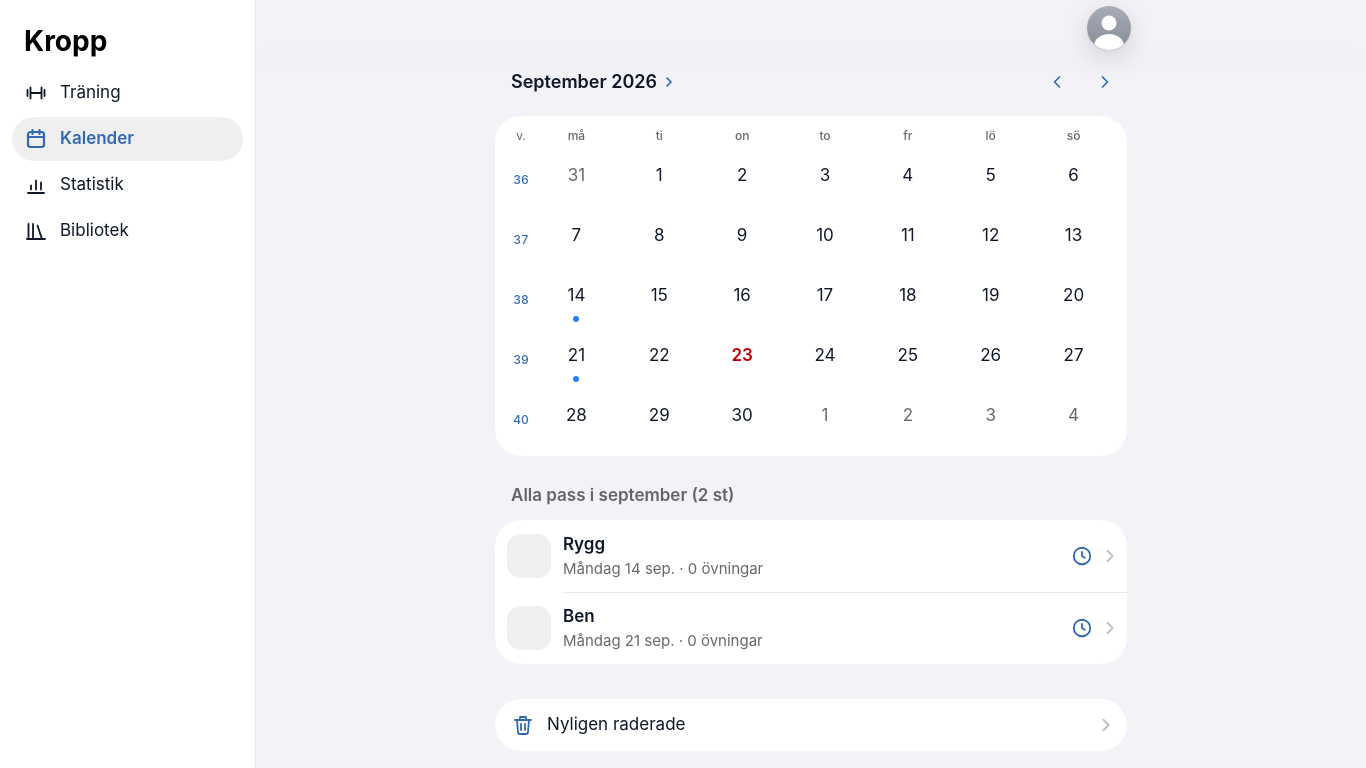
Test: shows the chosen day’s workouts, and the way back leads to that day
The width and height of the screenshot is (1366, 768).
Click the button "21". click: (576, 360)
box: [552, 332, 600, 388]
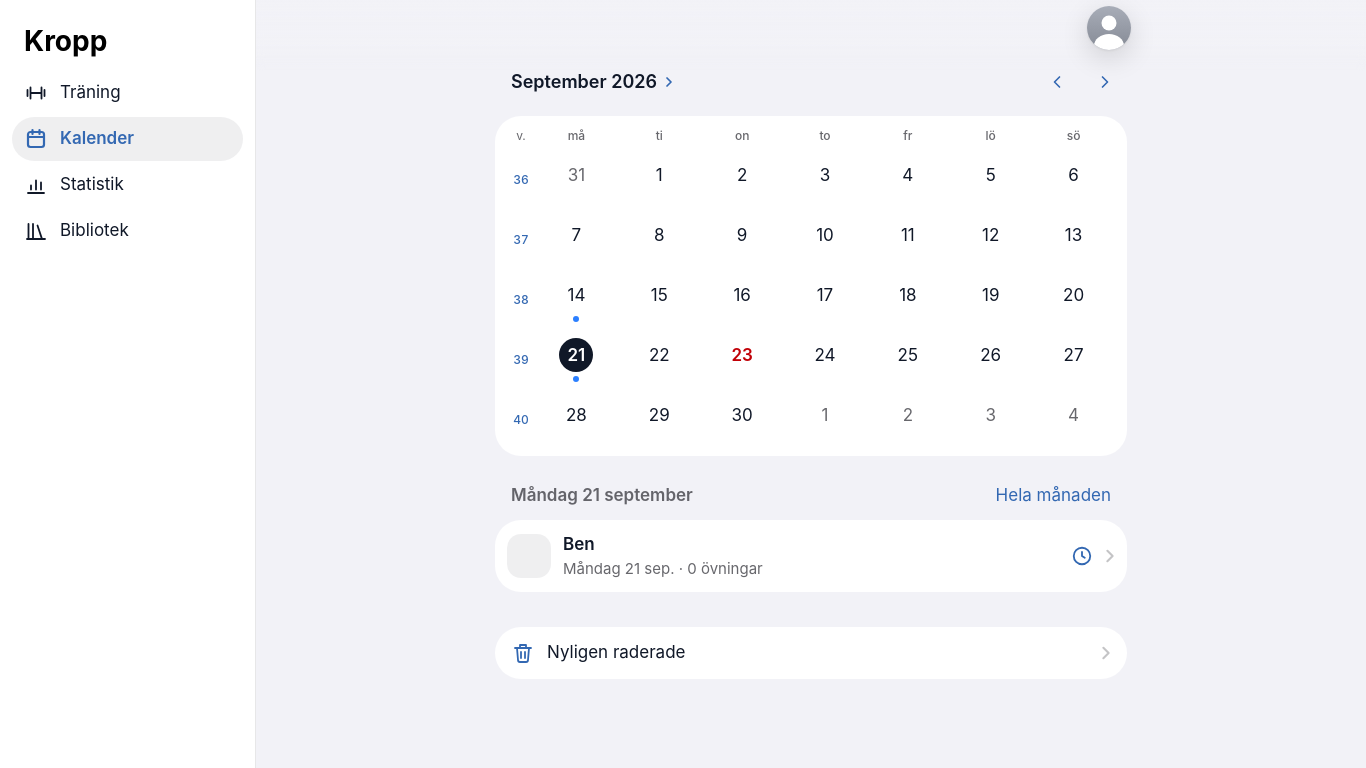
Expected: the heading with test id "shown-heading" reads "måndag 21 september", [511, 485, 693, 505]
Expected: the button with test id "whole-month" reads "Hela månaden"
Click the button with test id "whole-month". click: (1053, 496)
box: [988, 475, 1119, 517]
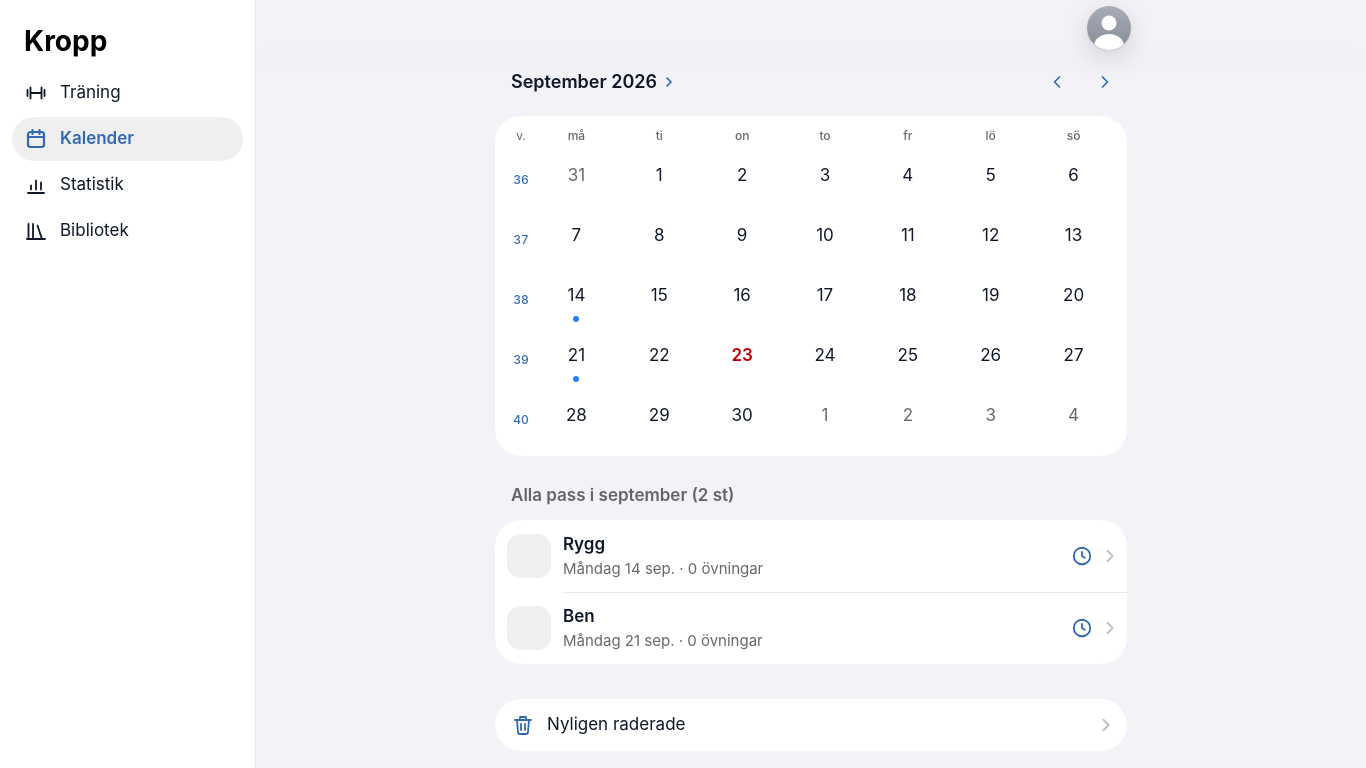
Expected: the number of elements with test id "workout-name" is 2, [563, 534, 605, 554]; [563, 606, 595, 626]
